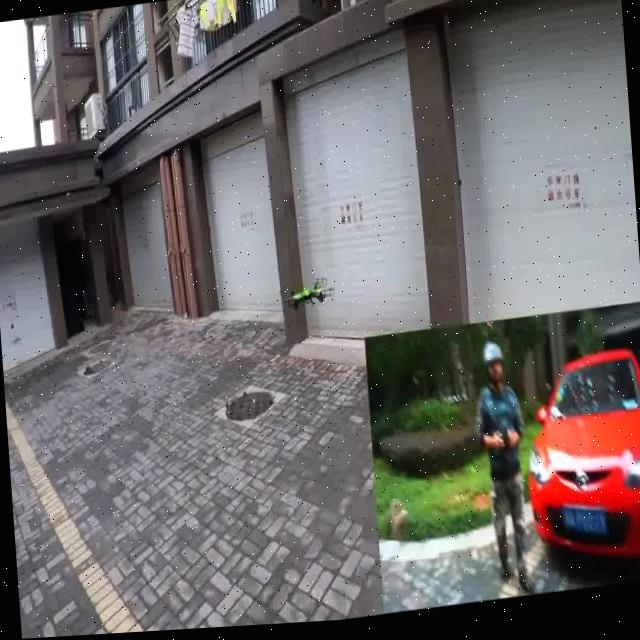drone: (282, 272, 334, 318)
